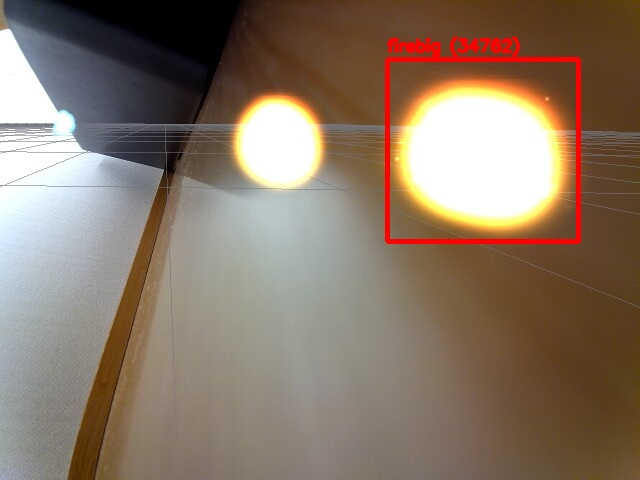firebig: (387, 59, 578, 241)
